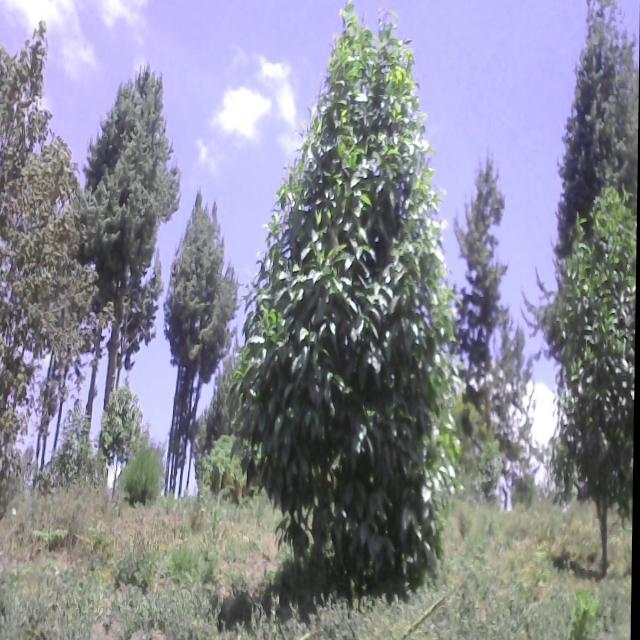Hass Avocado: (231, 0, 453, 599), (558, 217, 637, 585)
cedrus: (86, 63, 177, 364), (557, 0, 640, 229), (166, 188, 235, 458)
